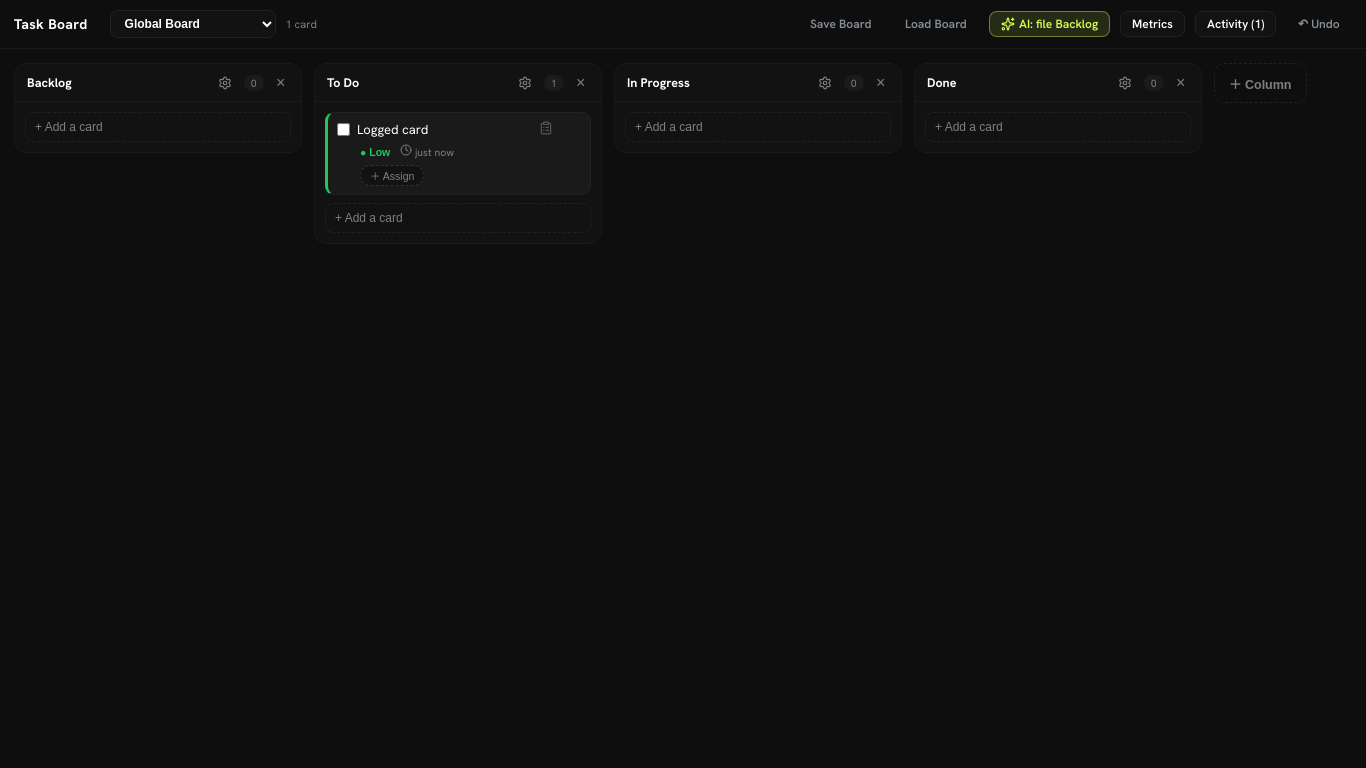
it: TaskBoard renders (real component mount) › opens the activity drawer and shows the logged add
The image size is (1366, 768).
toggle the Activity drawer
Click the button "Activity (1)". click: coordinates (1236, 24)
box: [1195,11,1276,37]
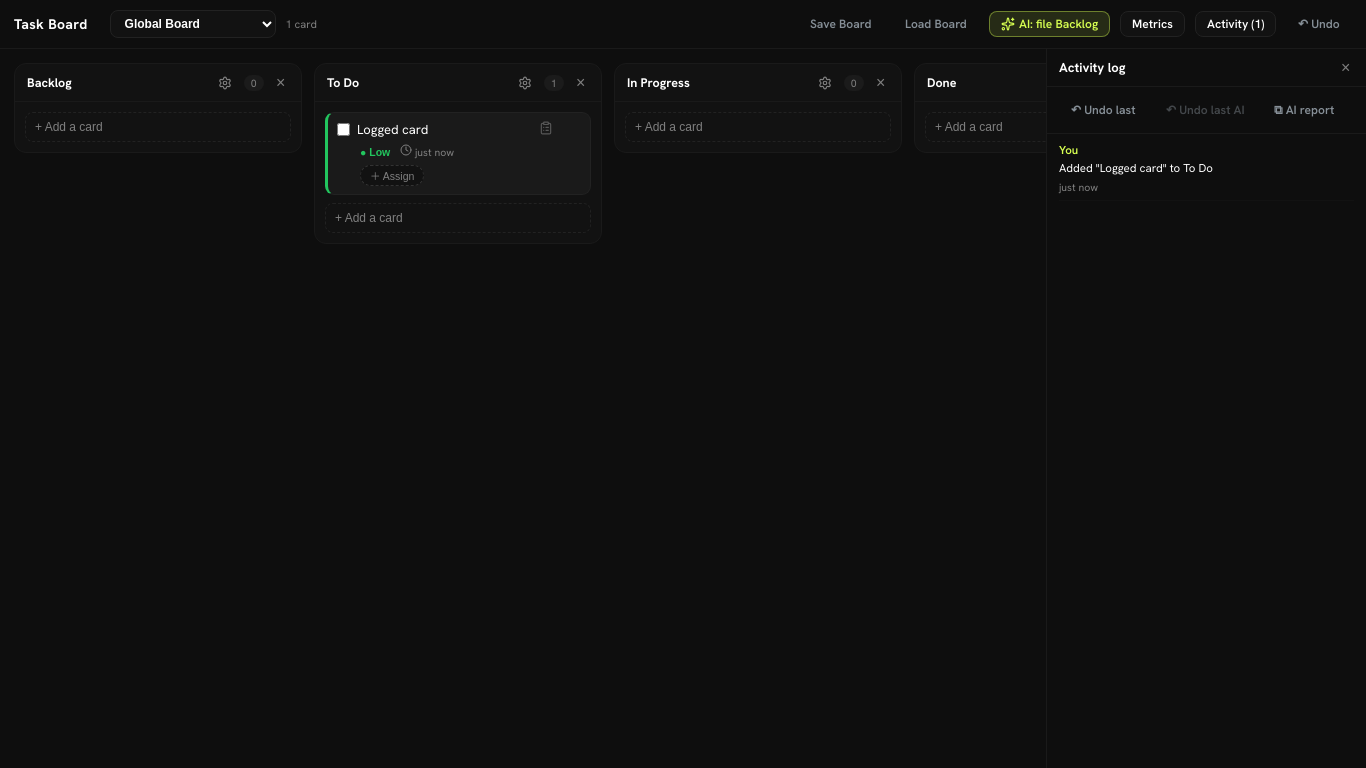
Now the text "Activity log" is shown, box [1059,59,1126,76]
Now the text "Added \"Logged card\" to To Do" is shown, box [1059,160,1213,175]
